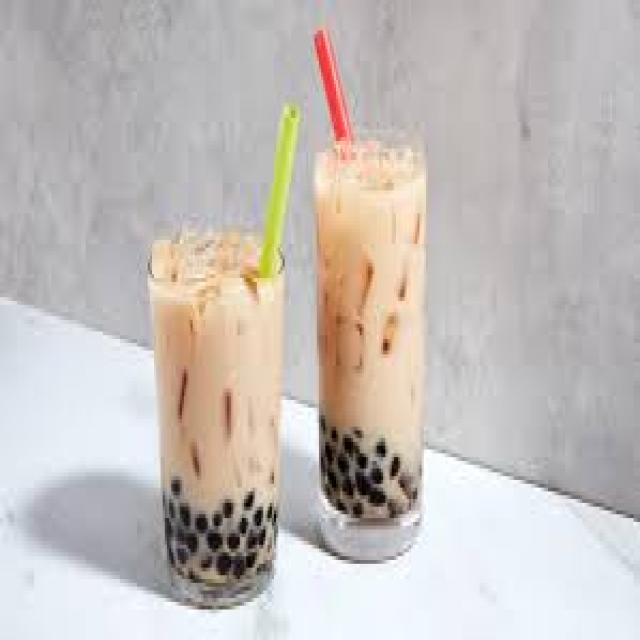bottle: (149, 231, 284, 604), (313, 136, 426, 560)
